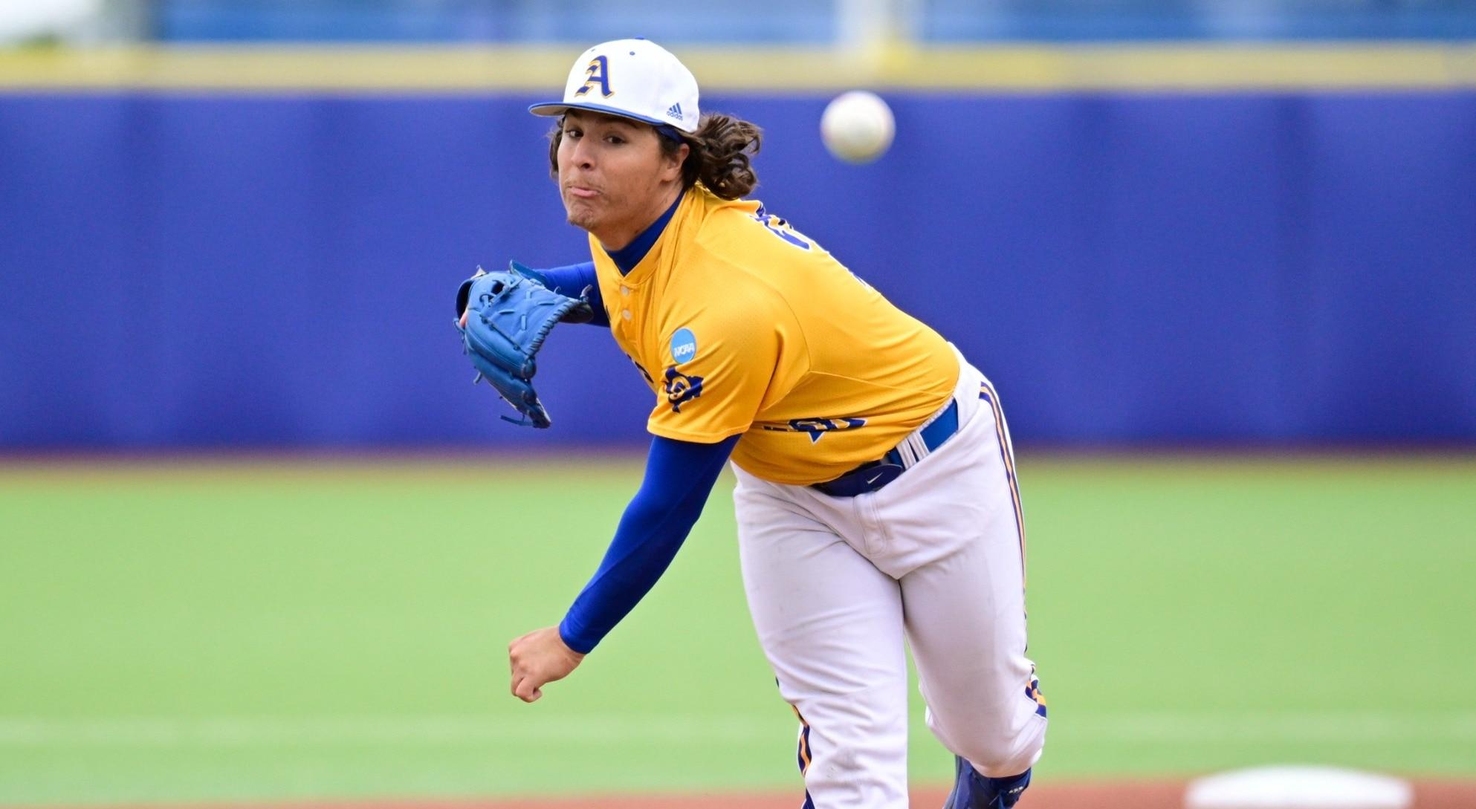baseball: (816, 87, 896, 161)
